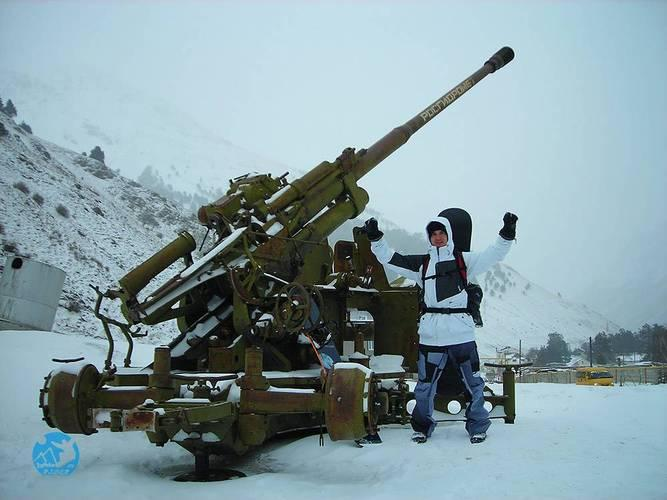MIL_SPG: (39, 48, 512, 480)
